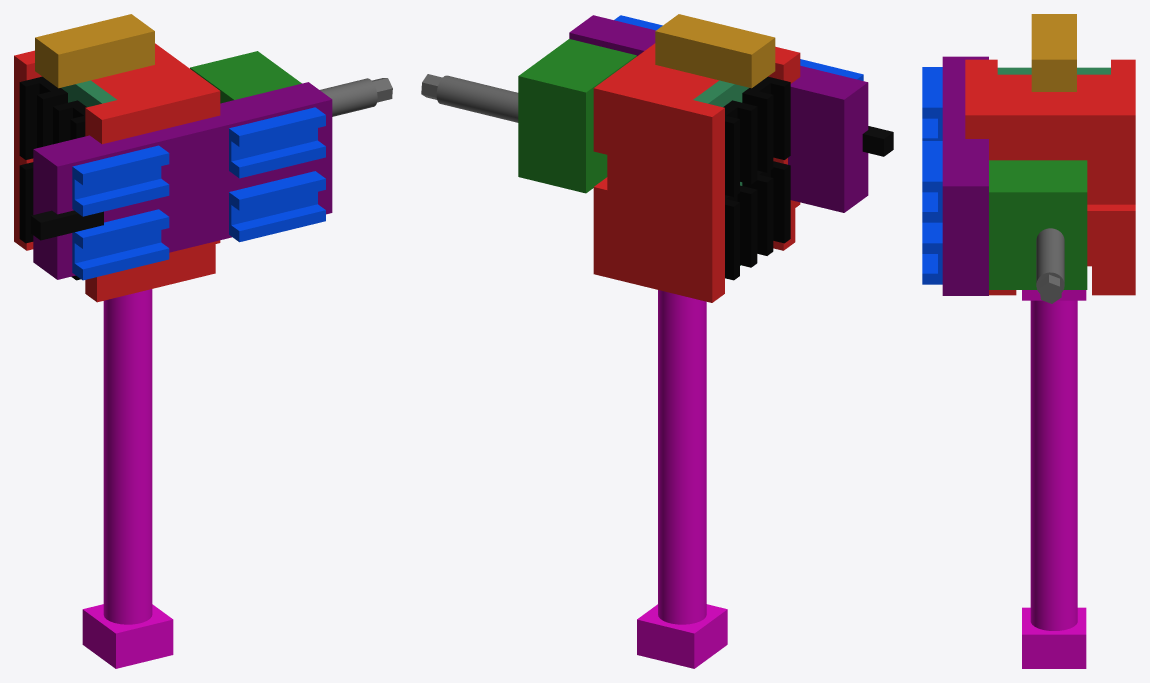
File: dayamam_kizak_arka2.glb
3 views of the same model, side by side, from view 1: azimuth 30°, elevation 25°; view 2: azimuth 150°, elevation 25°; view 3: azimuth 270°, elevation 25° (orthographic). The views are drawn at different scales.
Parts seen in each view (by area): view 1: 03 - 38 - DAYAMA KIZAK ON KAFA, 03 - 16 - DAYAMA TA\X2\015E\X0\IYICI, 03 - 09 - DAYAMA G\X\D6VDE, 03 - 08 - KIZAK TA\X2\015E\X0\IYICI BA\X2\011E\X0\LANTI PAR\, SOLID014, SOLID015, SOLID016, SOLID013, 03 - 15 - DAYAMA KOL V\X2\0130\X0\DASI DESTEK, SOLID010, 03 - 38- DAYAMA V\X2\0130\X0\DASI, 03 - 36 - TA\X2\015E\X0\IYICI TIRNAK (+3 smaller); view 2: 03 - 09 - DAYAMA G\X\D6VDE, 03 - 38 - DAYAMA KIZAK ON KAFA, 03 - 16 - DAYAMA TA\X2\015E\X0\IYICI, 03 - 15 - DAYAMA KOL V\X2\0130\X0\DASI DESTEK, 03 - 08 - KIZAK TA\X2\015E\X0\IYICI BA\X2\011E\X0\LANTI PAR\, SOLID011, SOLID012, 03 - 38- DAYAMA V\X2\0130\X0\DASI, SOLID010, SOLID009, 03 - 31 - RULMAN BA\X2\011E\X0\LANTI PAR\X\C7ASI, 03 - 36 - TA\X2\015E\X0\IYICI TIRNAK; view 3: 03 - 09 - DAYAMA G\X\D6VDE, 03 - 38 - DAYAMA KIZAK ON KAFA, 03 - 15 - DAYAMA KOL V\X2\0130\X0\DASI DESTEK, 03 - 16 - DAYAMA TA\X2\015E\X0\IYICI, 03 - 08 - KIZAK TA\X2\015E\X0\IYICI BA\X2\011E\X0\LANTI PAR\, 03 - 38- DAYAMA V\X2\0130\X0\DASI, SOLID015, SOLID014, SOLID016, 03 - 31 - RULMAN BA\X2\011E\X0\LANTI PAR\X\C7ASI.
Boxes of the visible parts, left/top/right/bottom form: 03 - 38 - DAYAMA KIZAK ON KAFA: left=82, top=289, right=173, bottom=668; 03 - 16 - DAYAMA TA\X2\015E\X0\IYICI: left=33, top=82, right=332, bottom=279; 03 - 09 - DAYAMA G\X\D6VDE: left=14, top=43, right=220, bottom=302; 03 - 08 - KIZAK TA\X2\015E\X0\IYICI BA\X2\011E\X0\LANTI PAR\: left=35, top=14, right=154, bottom=88; SOLID014: left=72, top=145, right=169, bottom=216; SOLID015: left=229, top=107, right=325, bottom=178; SOLID016: left=229, top=171, right=325, bottom=242; SOLID013: left=72, top=209, right=169, bottom=280; 03 - 15 - DAYAMA KOL V\X2\0130\X0\DASI DESTEK: left=190, top=51, right=301, bottom=103; SOLID010: left=19, top=76, right=67, bottom=159; 03 - 38- DAYAMA V\X2\0130\X0\DASI: left=320, top=78, right=392, bottom=116; 03 - 36 - TA\X2\015E\X0\IYICI TIRNAK: left=31, top=210, right=103, bottom=240; 03 - 09 - DAYAMA G\X\D6VDE: left=593, top=43, right=800, bottom=302; 03 - 38 - DAYAMA KIZAK ON KAFA: left=637, top=290, right=727, bottom=668; 03 - 16 - DAYAMA TA\X2\015E\X0\IYICI: left=569, top=15, right=868, bottom=212; 03 - 15 - DAYAMA KOL V\X2\0130\X0\DASI DESTEK: left=518, top=39, right=636, bottom=193; 03 - 08 - KIZAK TA\X2\015E\X0\IYICI BA\X2\011E\X0\LANTI PAR\: left=655, top=14, right=775, bottom=88; SOLID011: left=742, top=76, right=790, bottom=172; SOLID012: left=742, top=161, right=790, bottom=255; 03 - 38- DAYAMA V\X2\0130\X0\DASI: left=421, top=74, right=518, bottom=122; SOLID010: left=723, top=100, right=757, bottom=196; SOLID009: left=725, top=185, right=757, bottom=280; 03 - 31 - RULMAN BA\X2\011E\X0\LANTI PAR\X\C7ASI: left=693, top=80, right=749, bottom=265; 03 - 36 - TA\X2\015E\X0\IYICI TIRNAK: left=862, top=126, right=893, bottom=156; 03 - 09 - DAYAMA G\X\D6VDE: left=965, top=59, right=1135, bottom=295; 03 - 38 - DAYAMA KIZAK ON KAFA: left=1022, top=290, right=1086, bottom=668; 03 - 15 - DAYAMA KOL V\X2\0130\X0\DASI DESTEK: left=989, top=160, right=1087, bottom=289; 03 - 16 - DAYAMA TA\X2\015E\X0\IYICI: left=942, top=56, right=988, bottom=295; 03 - 08 - KIZAK TA\X2\015E\X0\IYICI BA\X2\011E\X0\LANTI PAR\: left=1031, top=14, right=1076, bottom=91; 03 - 38- DAYAMA V\X2\0130\X0\DASI: left=1036, top=228, right=1064, bottom=303; SOLID015: left=922, top=141, right=942, bottom=222; SOLID014: left=922, top=67, right=942, bottom=140; SOLID016: left=922, top=222, right=942, bottom=284; 03 - 31 - RULMAN BA\X2\011E\X0\LANTI PAR\X\C7ASI: left=997, top=67, right=1110, bottom=74.
Bounding box in the file's own units: 0.4805 × 0.704 × 0.2255.
